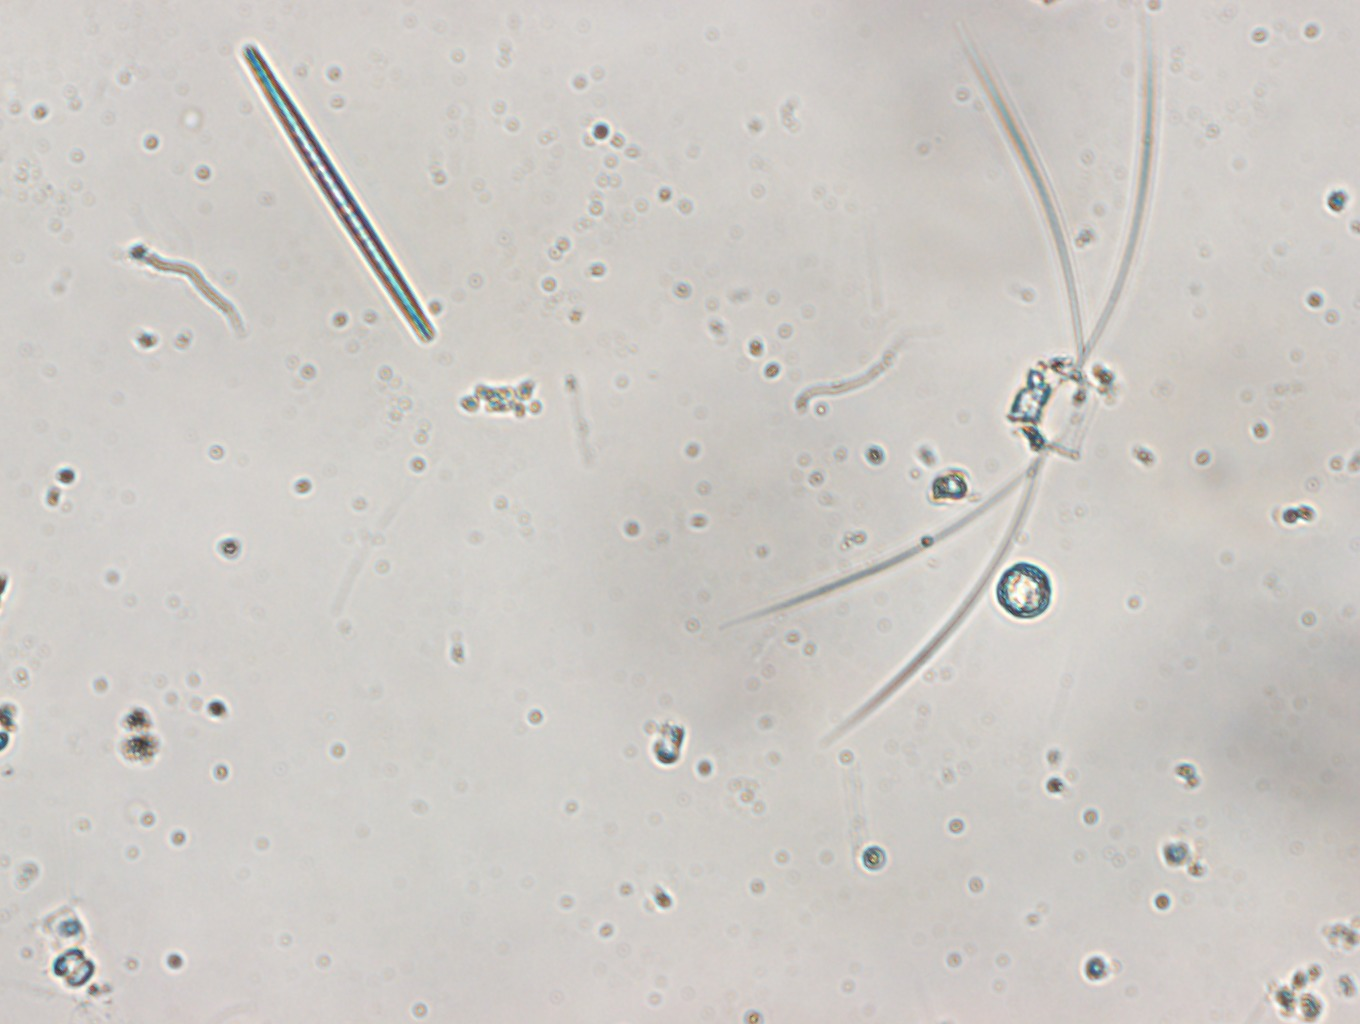chaetoceros: (718, 19, 1174, 741)
